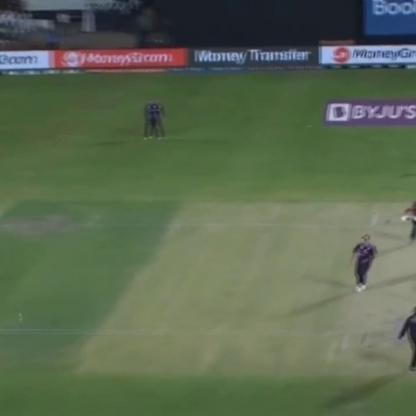ball: (13, 314, 24, 325), (11, 310, 26, 318)
pitch: (346, 178, 416, 385)
